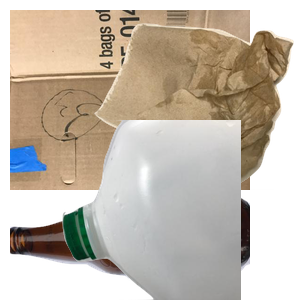cardboard: (10, 10, 250, 190)
glass: (10, 188, 250, 300)
plastic: (60, 120, 300, 300)
trash: (92, 21, 300, 201)
